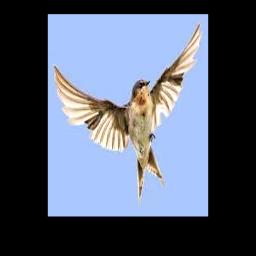Swallow: (53, 21, 201, 205)
